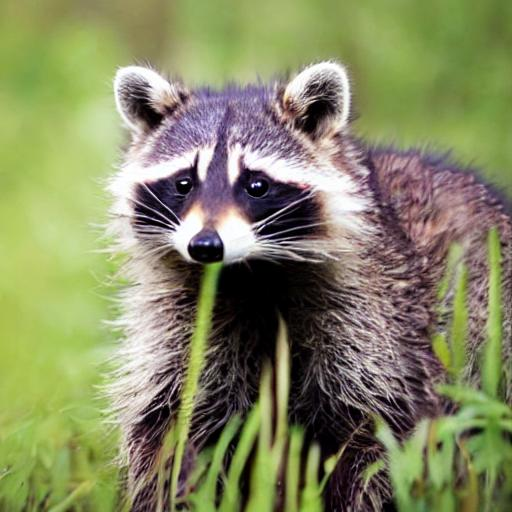raccoon: (97, 55, 512, 512)
